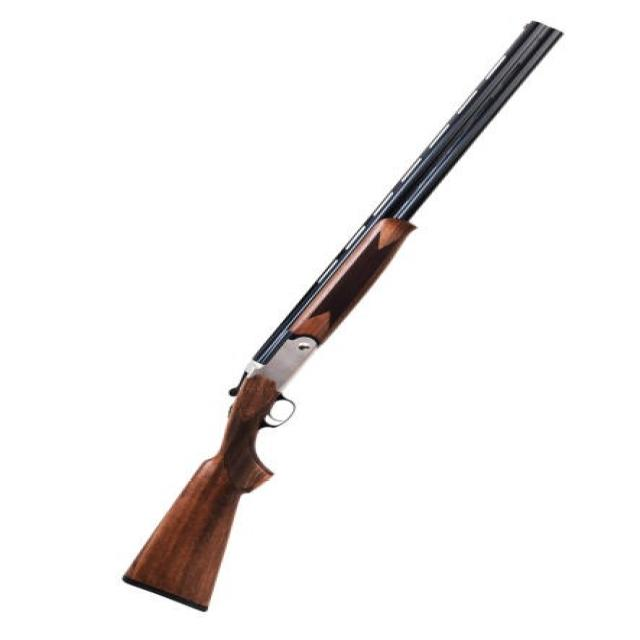rifle: (106, 10, 570, 637)
